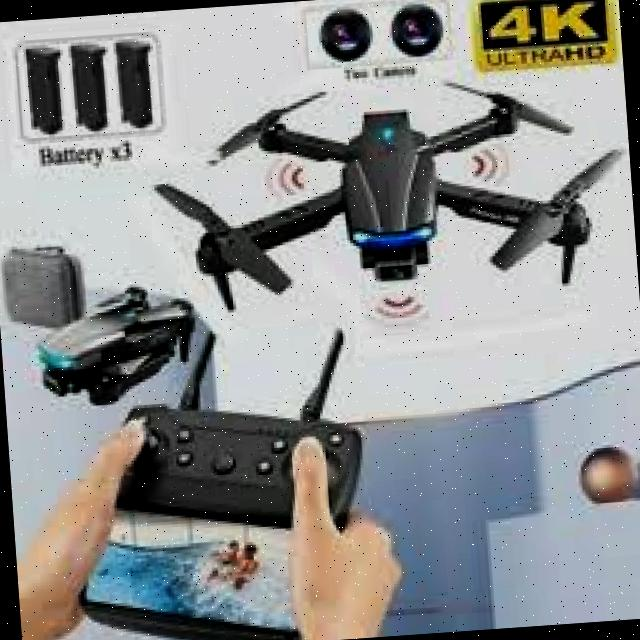drone: (145, 70, 627, 340)
